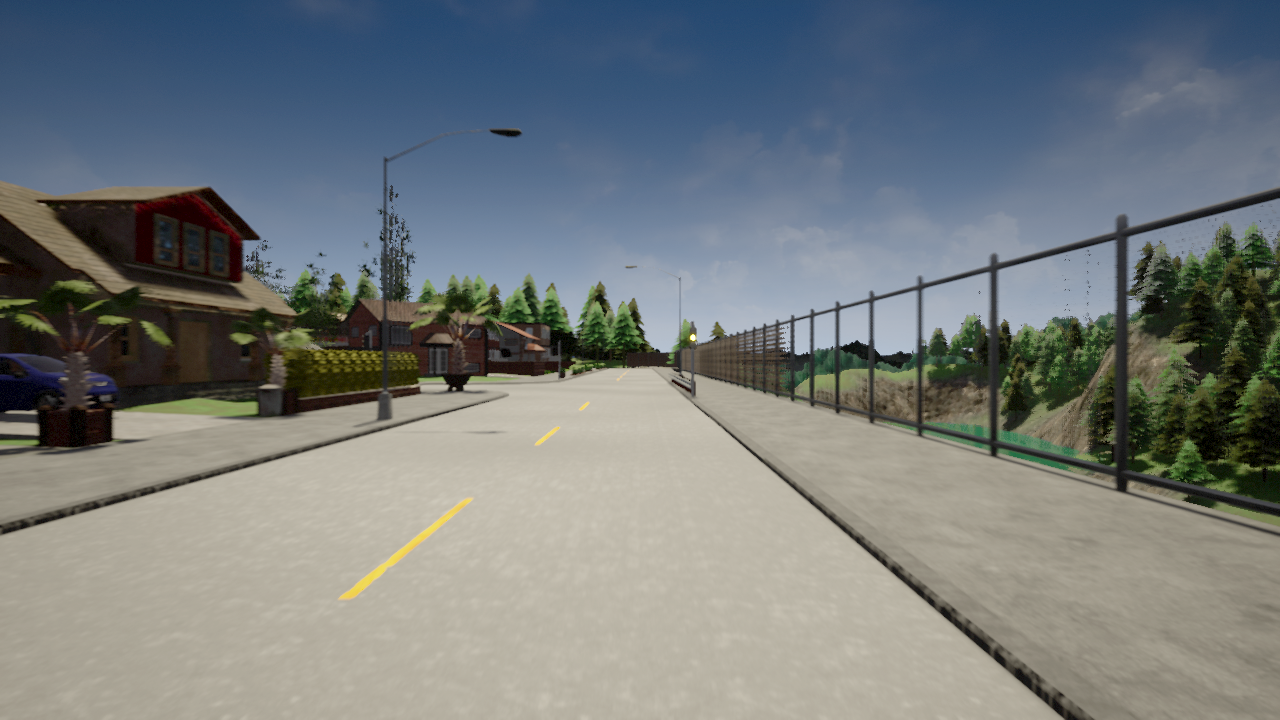yellow: (689, 327, 698, 348)
